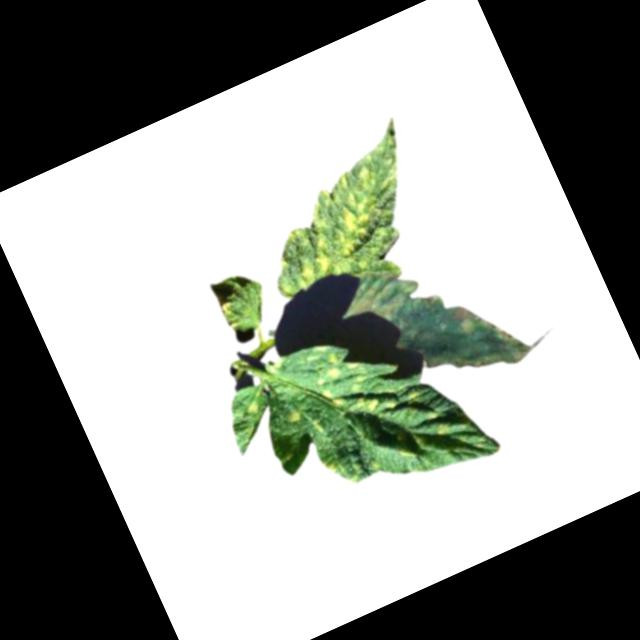Leaf_Mold: (281, 303, 487, 514), (234, 116, 445, 307), (344, 226, 532, 413), (275, 401, 306, 434), (240, 397, 265, 423)
